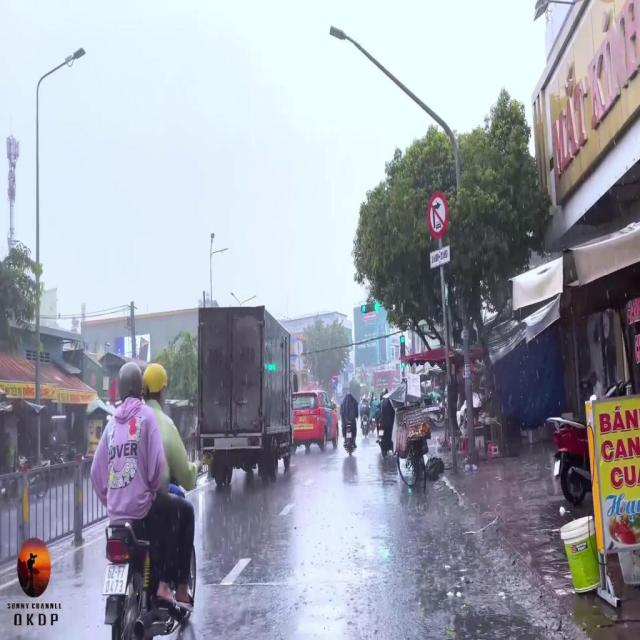cam_o_to_re_phai: (427, 191, 450, 238)
cam_xe_di_nguoc_chieu: (333, 372, 337, 380)
huong_phai_di_vuot_chuong_ngai_vat_phai: (333, 382, 337, 390)
khac: (429, 246, 450, 268)
